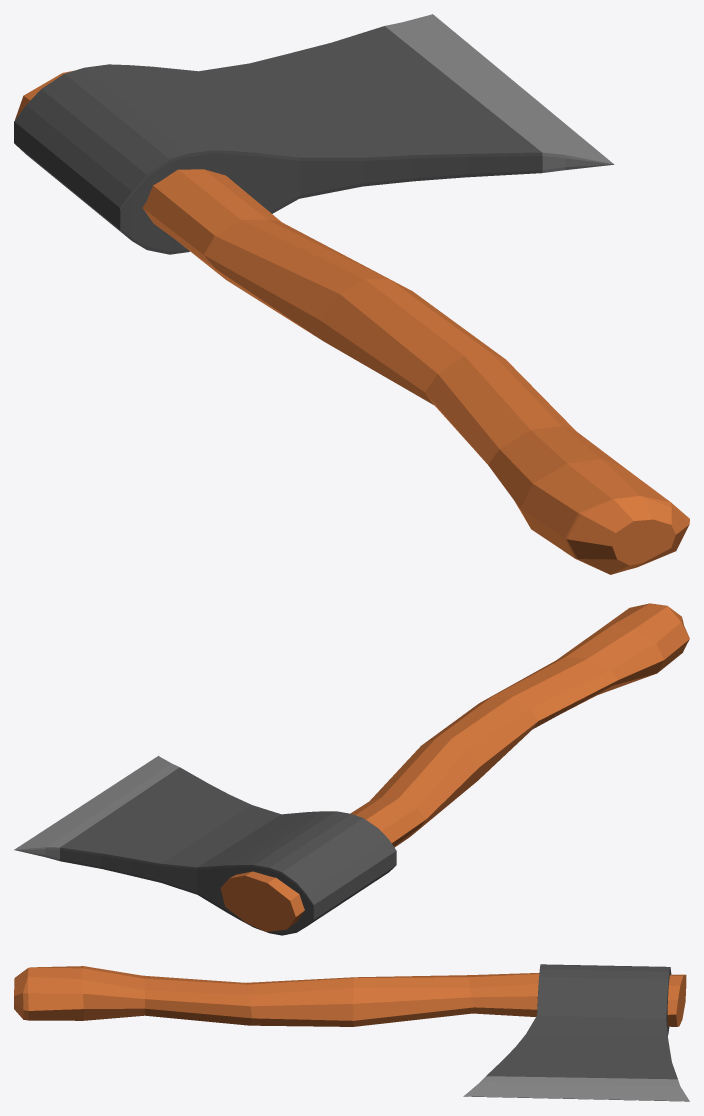
The model's file is axe.glb.
3 renders of one model, top to bottom at view 1: azimuth 30°, elevation 25°; view 2: azimuth 150°, elevation 25°; view 3: azimuth 270°, elevation 25°, orthographic. The views are drawn at different scales.
Parts seen in each view (by area): view 1: Axe; view 2: Axe; view 3: Axe.
Boxes of the visible parts, bbox=[...] form: Axe: bbox=[14, 14, 689, 574]; Axe: bbox=[14, 603, 689, 935]; Axe: bbox=[14, 964, 689, 1101].
Bounding box in the file's own units: 2.08 × 0.4412 × 4.82.
